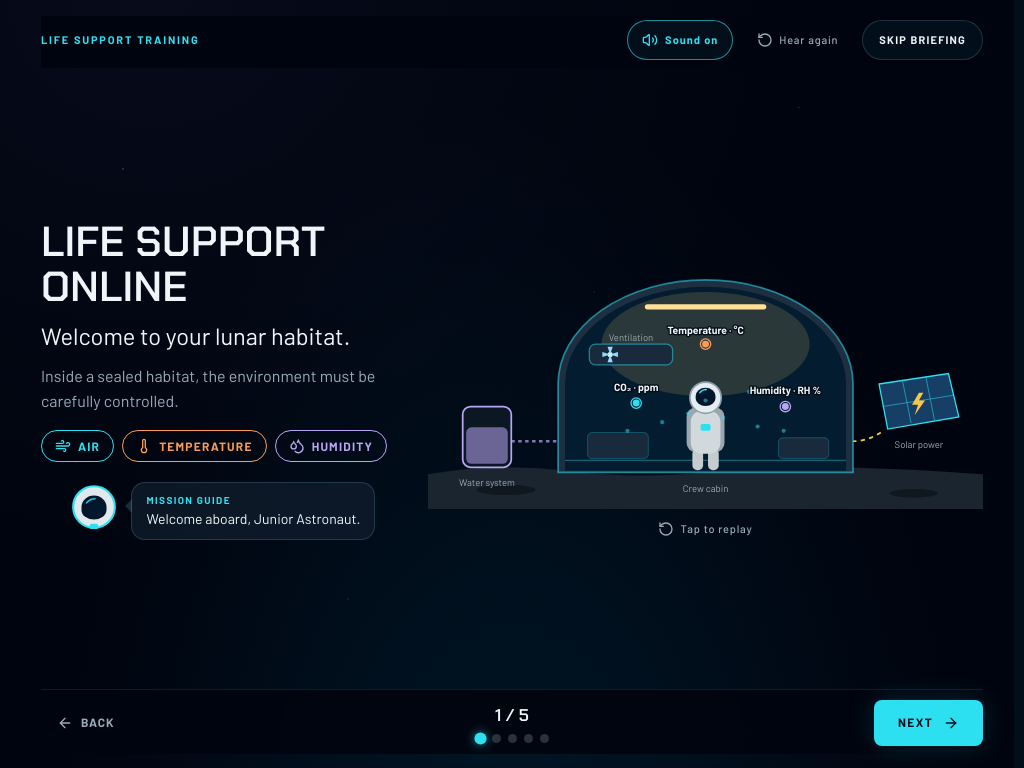
Teaching the trade-off (scene 3) › shows the three systems, their effect chains and the power cost
Click the button "NEXT": (928, 723) x1=874 y1=700 x2=983 y2=746
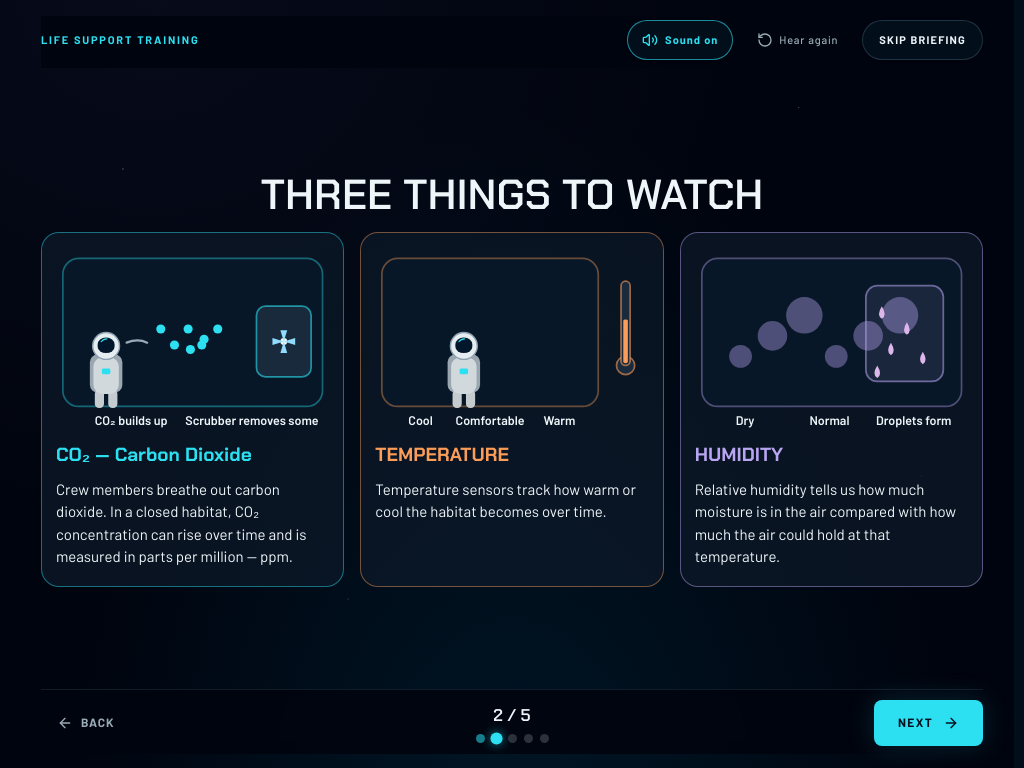
Click the button "NEXT": (928, 723) x1=874 y1=700 x2=983 y2=746
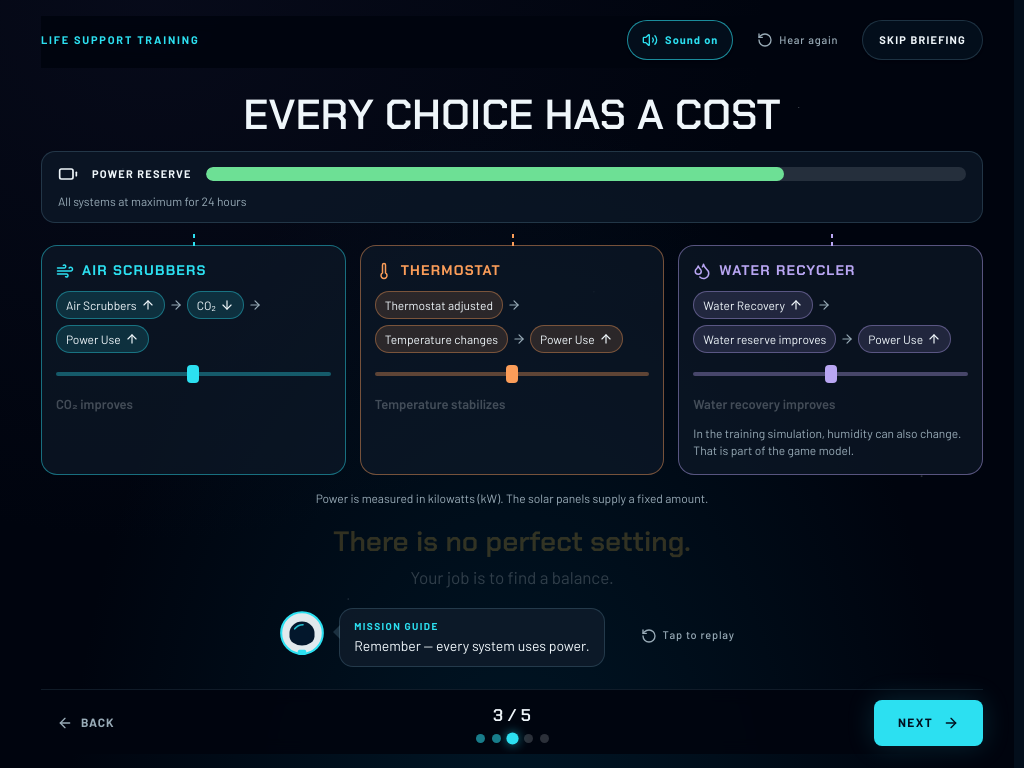
expect the element "AIR SCRUBBERS" is shown: met, box x1=41 y1=245 x2=346 y2=475
expect the element "THERMOSTAT" is shown: met, box x1=360 y1=245 x2=664 y2=475
expect the element "WATER RECYCLER" is shown: met, box x1=678 y1=245 x2=983 y2=475
